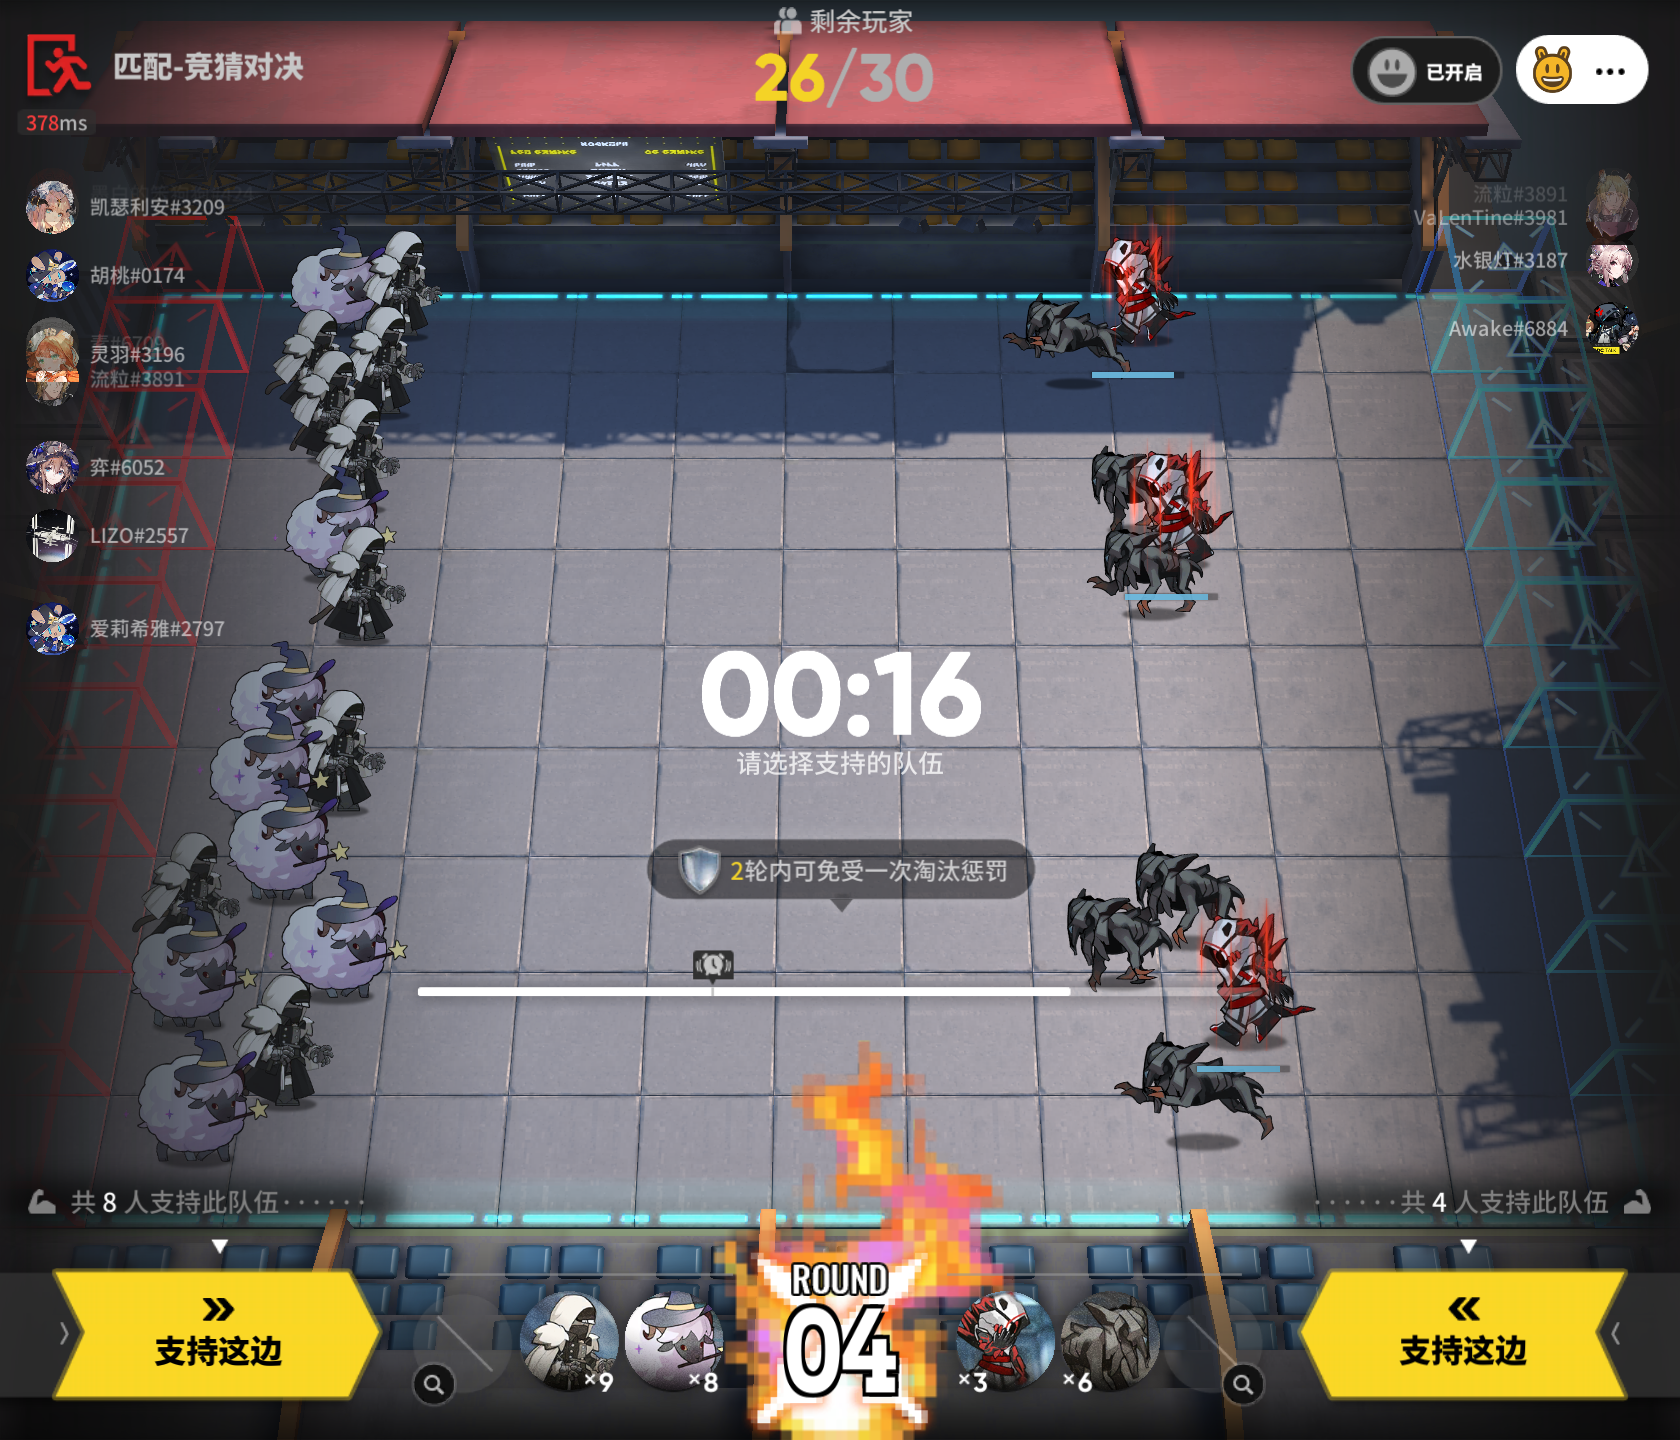冰手术师: (234, 973, 333, 1120), (519, 1283, 626, 1401), (319, 520, 411, 644), (149, 826, 241, 946), (294, 689, 381, 814), (286, 341, 379, 459), (321, 383, 396, 519), (364, 221, 447, 343), (351, 301, 414, 419), (276, 304, 346, 399)
星星魔法师: (124, 1027, 273, 1183), (280, 857, 410, 1004), (129, 909, 260, 1036), (226, 634, 357, 743), (227, 776, 339, 901), (211, 720, 331, 827), (621, 1290, 734, 1401), (286, 459, 386, 581), (289, 219, 389, 331)
苦难的具象: (1191, 906, 1324, 1059), (1131, 434, 1239, 561), (1089, 226, 1190, 350), (950, 1287, 1054, 1394)
食腐野兽: (1127, 1027, 1281, 1137), (1120, 823, 1261, 941), (1054, 1284, 1167, 1389), (1061, 889, 1171, 990), (1076, 513, 1201, 601), (1004, 287, 1126, 373), (1079, 439, 1161, 513)
